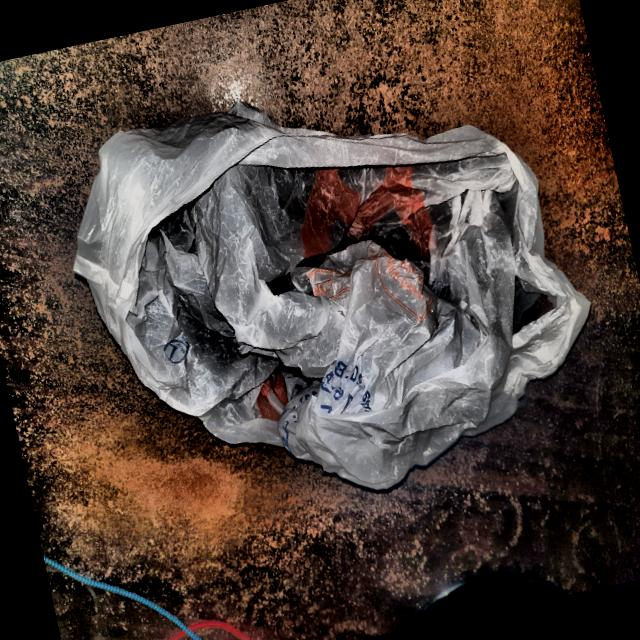plastic bag: (40, 31, 630, 554)
